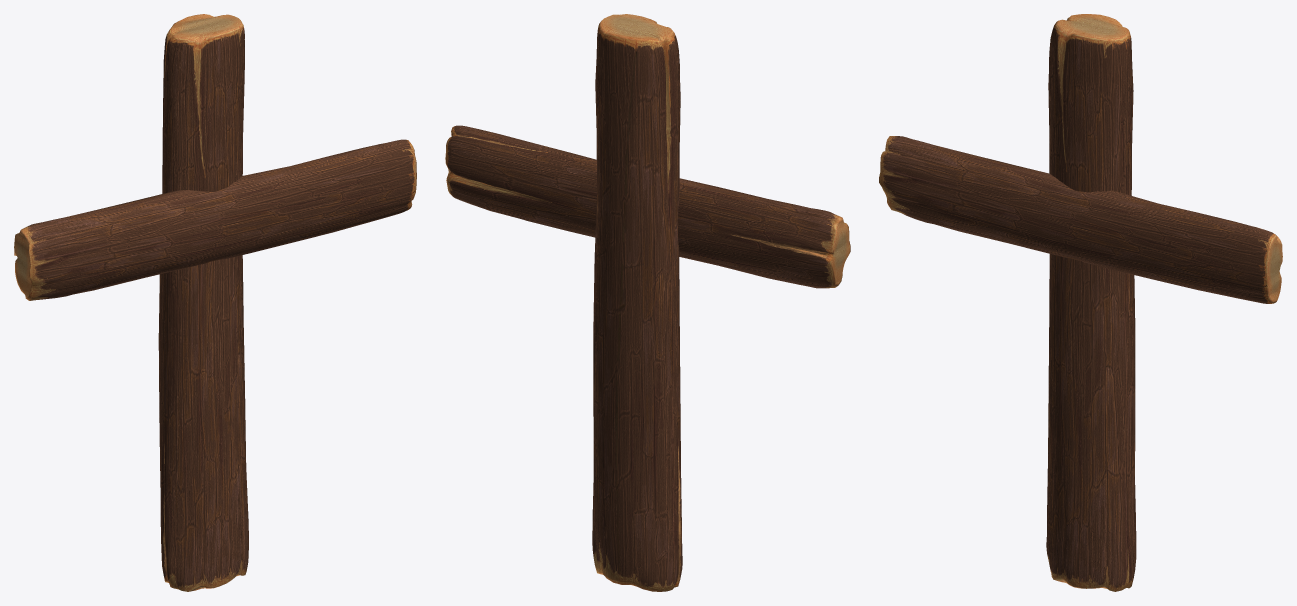
File: Cross2.glb
3 renders of one model, left to right at view 1: azimuth 30°, elevation 25°; view 2: azimuth 150°, elevation 25°; view 3: azimuth 330°, elevation 25°, orthographic.
Visible parts, largest first — view 1: node_id38, node_id30; view 2: node_id38, node_id30; view 3: node_id38, node_id30.
Boxes of the visible parts, bbox=[...] form: node_id38: bbox=[158, 14, 248, 591]; node_id30: bbox=[14, 139, 416, 300]; node_id38: bbox=[592, 14, 682, 591]; node_id30: bbox=[445, 125, 850, 288]; node_id38: bbox=[1046, 14, 1136, 591]; node_id30: bbox=[879, 136, 1282, 303].
Bounding box in the file's own units: 0.1549 × 0.2105 × 0.025.
Materials: 2 (2 with a texture image).
